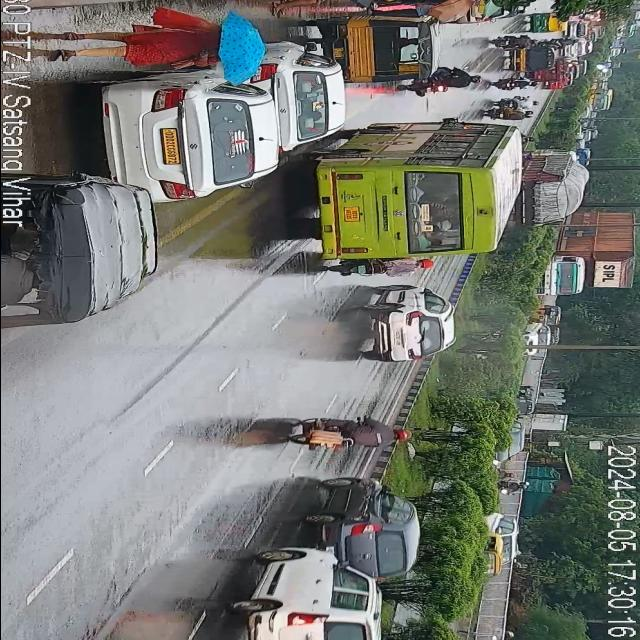2-wheelers: (278, 417, 418, 453), (394, 60, 490, 94), (477, 77, 549, 121), (317, 253, 436, 277), (492, 478, 528, 498), (490, 34, 536, 48)
auto: (331, 13, 443, 85), (472, 531, 504, 580), (503, 44, 555, 72), (526, 11, 562, 31), (528, 307, 566, 321)
bus: (311, 120, 531, 258)
car: (97, 72, 271, 198), (228, 545, 384, 640), (302, 476, 440, 576), (258, 38, 346, 164), (351, 283, 459, 364), (546, 18, 596, 90), (489, 506, 522, 564), (494, 416, 530, 459), (518, 326, 550, 354), (518, 384, 542, 408)
pedestrian: (52, 18, 268, 66), (268, 0, 378, 18), (386, 0, 494, 11)
truck: (525, 211, 640, 297), (514, 150, 590, 233)
